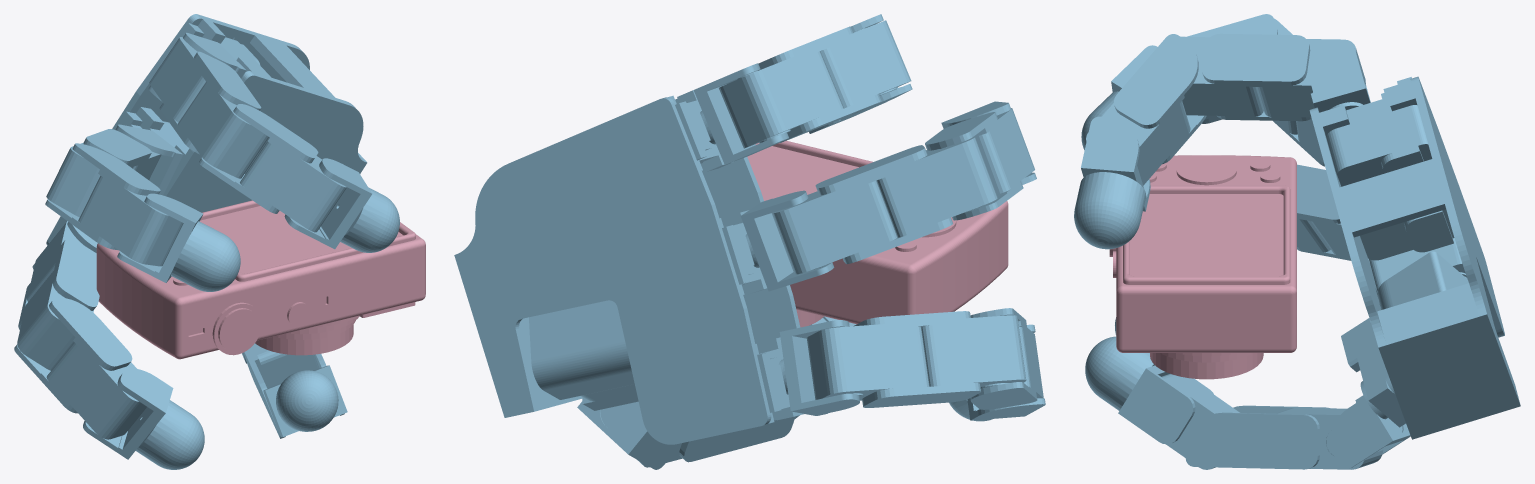
3 renders of one model, left to right at view 1: azimuth 30°, elevation 25°; view 2: azimuth 150°, elevation 25°; view 3: azimuth 270°, elevation 25°, orthographic. The views are drawn at different scales.
Visible parts, largest first — view 1: world, camera.stl; view 2: world, camera.stl; view 3: world, camera.stl.
Boxes of the visible parts, x1,y1,x2,y2 form: world: (14,14,399,469); camera.stl: (96,200,425,359); world: (454,14,1045,469); camera.stl: (747,140,1008,327); world: (1074,14,1520,469); camera.stl: (1109,155,1296,379).
Size of the model in its own units: 0.1787 by 0.1584 by 0.16.
